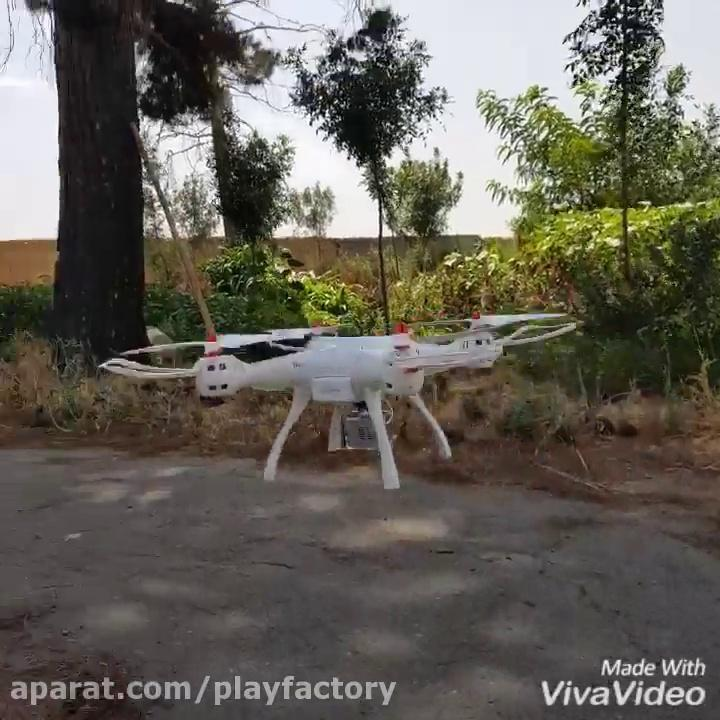drone: (99, 301, 578, 491)
